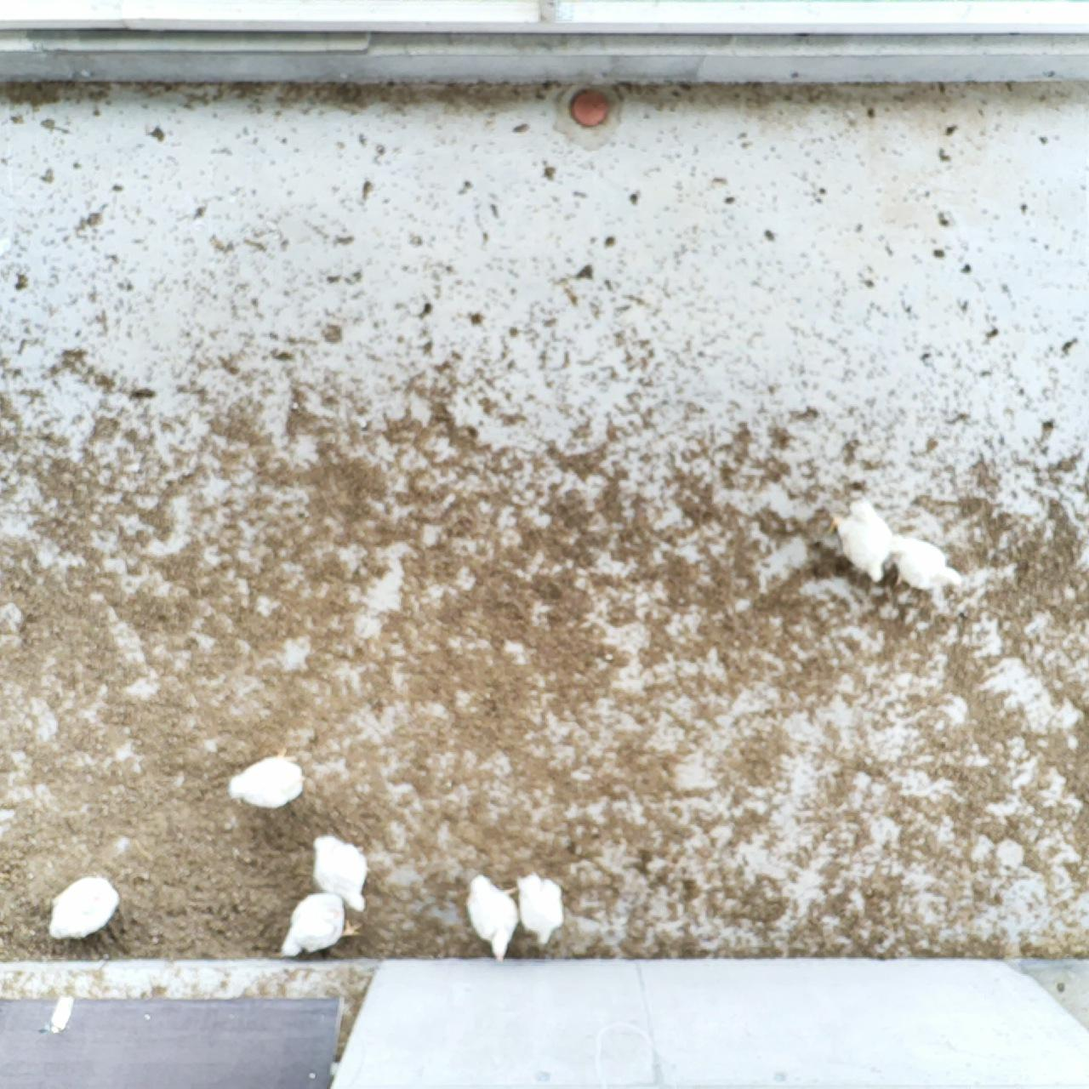chicken: (826, 493, 901, 584), (279, 889, 363, 961), (465, 868, 526, 963), (887, 526, 967, 596), (309, 829, 373, 914), (226, 744, 308, 809), (46, 874, 121, 942), (512, 869, 569, 952)
